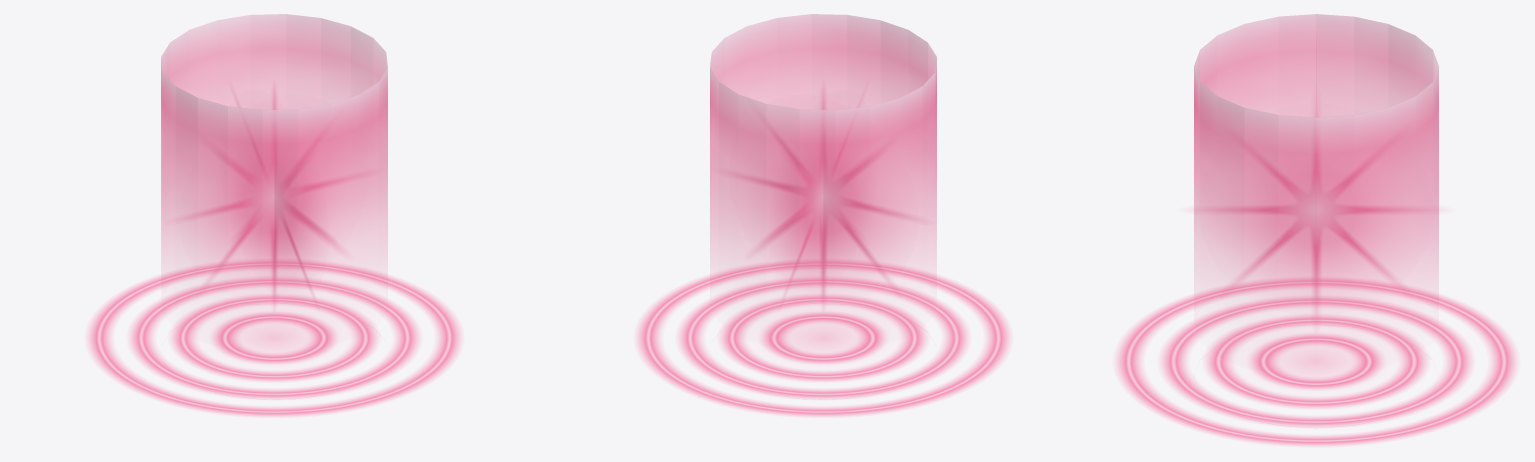
Rendered from fx_boom_t3.glb.
3 views of the same model, side by side, from view 1: azimuth 30°, elevation 25°; view 2: azimuth 150°, elevation 25°; view 3: azimuth 270°, elevation 25° (orthographic). The views are drawn at different scales.
Parts seen in each view (by area): view 1: fx_boom_wall, fx_boom_ring, fx_boom_flash; view 2: fx_boom_wall, fx_boom_ring, fx_boom_flash; view 3: fx_boom_wall, fx_boom_ring, fx_boom_flash.
Boxes of the visible parts, x1,y1,x2,y2 form: fx_boom_wall: (161,14,387,399); fx_boom_ring: (87,260,461,416); fx_boom_flash: (181,86,362,305); fx_boom_wall: (710,14,936,399); fx_boom_ring: (636,260,1010,416); fx_boom_flash: (733,86,916,305); fx_boom_wall: (1194,14,1438,330); fx_boom_ring: (1116,278,1516,446); fx_boom_flash: (1202,99,1429,317).
Size of the model in its own units: 1 by 0.84 by 1.
3 materials, 3 textured.
